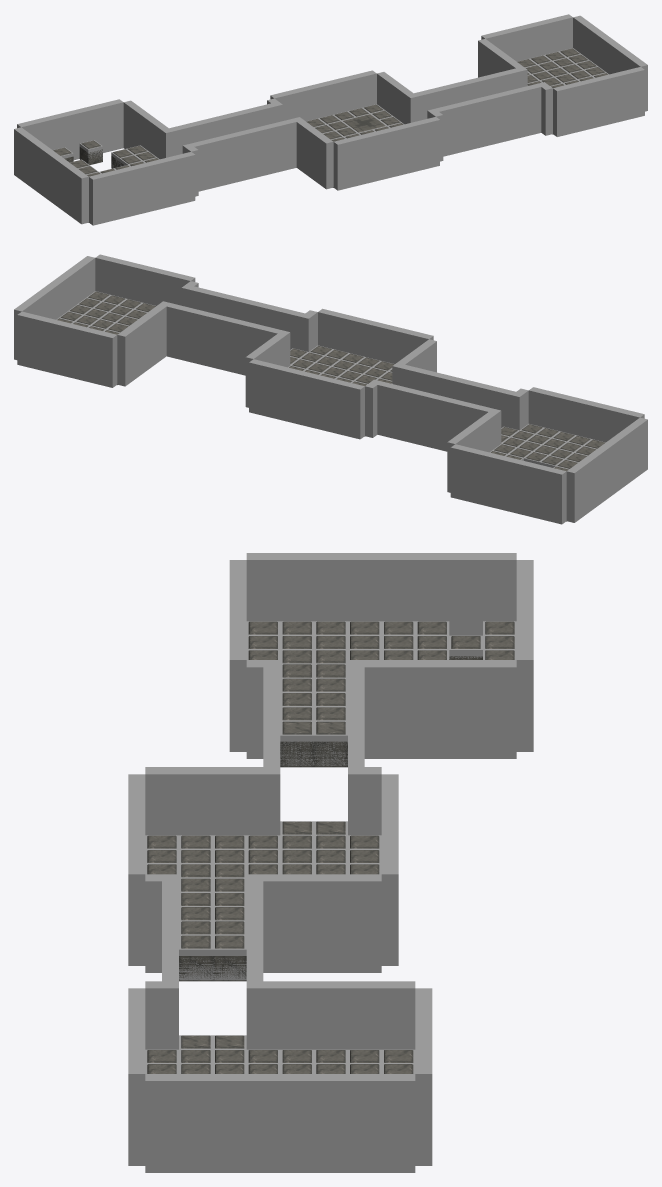
The model's file is second_escenary.fbx.
3 views of the same model, one above another, from view 1: azimuth 30°, elevation 25°; view 2: azimuth 150°, elevation 25°; view 3: azimuth 270°, elevation 25° (orthographic). The views are drawn at different scales.
Visible parts, largest first — view 1: limit_walls10, limit_walls5, limit_walls18, limit_walls19, limit_walls16, limit_walls4, limit_walls3, limit_walls9, limit_center_mesh_2, limit_walls17, limit_left_2, limit_walls13 (+12 smaller); view 2: limit_walls3, limit_walls9, limit_walls13, limit_walls20, limit_walls17, limit_walls4, limit_left_2, limit_walls5, limit_walls10, limit_center_mesh_2, limit_walls18, limit_walls16 (+12 smaller); view 3: limit_walls6, limit_walls4, limit_walls2, limit_walls12, limit_walls7, limit_left_2, limit_walls15, limit_center_mesh_2, left_mesh_2, center_mesh_2, limit_walls10, limit_walls5 (+18 smaller).
Boxes of the visible parts, x1,y1,x2,y2 form: limit_walls10: [333, 117, 439, 190]; limit_walls5: [89, 152, 195, 225]; limit_walls18: [182, 117, 303, 191]; limit_walls19: [427, 82, 544, 156]; limit_walls16: [553, 67, 644, 136]; limit_walls4: [14, 127, 88, 224]; limit_walls3: [17, 99, 123, 160]; limit_walls9: [270, 70, 376, 121]; limit_center_mesh_2: [267, 72, 442, 188]; limit_walls17: [161, 103, 282, 158]; limit_left_2: [14, 100, 198, 223]; limit_walls13: [481, 14, 572, 61]; limit_walls3: [450, 444, 566, 524]; limit_walls9: [249, 359, 364, 439]; limit_walls13: [17, 311, 117, 387]; limit_walls20: [159, 301, 290, 375]; limit_walls17: [374, 379, 501, 451]; limit_walls4: [566, 417, 647, 522]; limit_left_2: [447, 389, 647, 521]; limit_walls5: [528, 387, 644, 442]; limit_walls10: [318, 308, 433, 363]; limit_center_mesh_2: [245, 311, 436, 437]; limit_walls18: [392, 363, 524, 430]; limit_walls16: [95, 254, 195, 305]; limit_walls6: [145, 1074, 415, 1172]; limit_walls4: [246, 553, 516, 635]; limit_walls2: [348, 660, 516, 758]; limit_walls12: [246, 874, 381, 972]; limit_walls7: [246, 981, 415, 1049]; limit_left_2: [246, 553, 533, 758]; limit_walls15: [145, 767, 280, 835]; limit_center_mesh_2: [145, 767, 398, 972]; left_mesh_2: [246, 621, 516, 766]; center_mesh_2: [145, 821, 381, 980]; limit_walls10: [128, 774, 145, 965]; limit_walls5: [229, 560, 246, 751].
Size of the model in its own units: 37 by 3.03 by 12.
